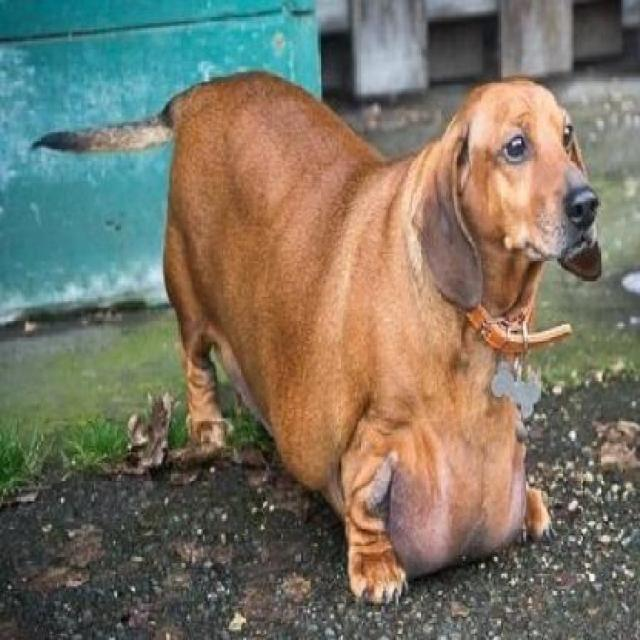Dog: (29, 66, 606, 612)
